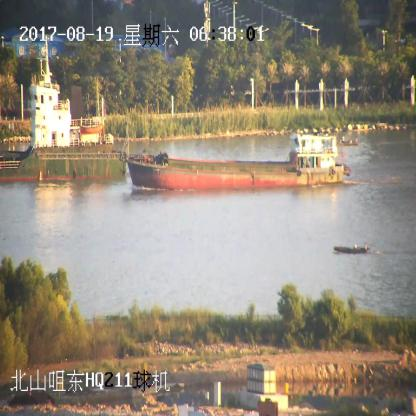Fishing Boat: (334, 242, 372, 256), (341, 137, 359, 148)
